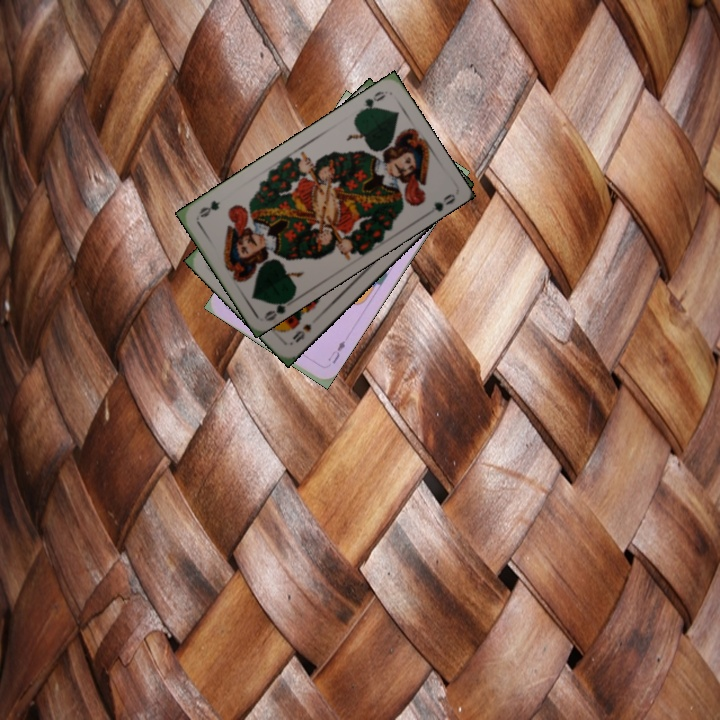EU: (324, 336, 348, 367)
GO: (261, 293, 296, 323), (354, 87, 388, 117)
S8: (288, 320, 314, 345)
